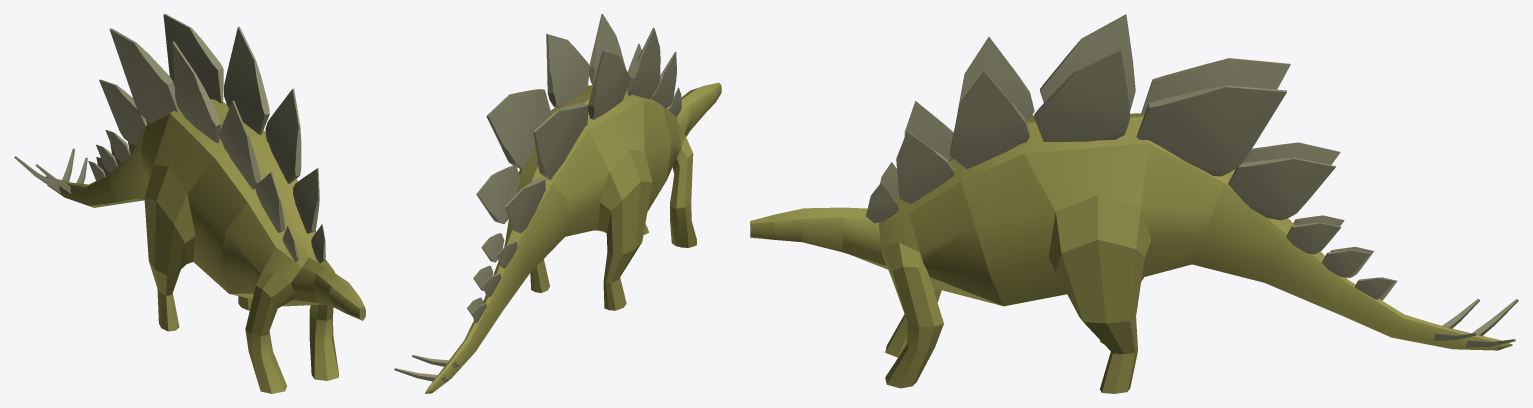
The model's file is Low_Poly_Stego.fbx.
3 views of the same model, side by side, from view 1: azimuth 30°, elevation 25°; view 2: azimuth 150°, elevation 25°; view 3: azimuth 270°, elevation 25° (orthographic). The views are drawn at different scales.
Visible parts, largest first — view 1: Body, Back_Spikes, Tail_Spikes; view 2: Body, Back_Spikes, Tail_Spikes; view 3: Body, Back_Spikes, Tail_Spikes.
Part boxes in pixels (bbox=[...]): Body: bbox=[45, 99, 365, 393]; Back_Spikes: bbox=[88, 14, 325, 263]; Tail_Spikes: bbox=[14, 148, 87, 193]; Body: bbox=[425, 82, 721, 393]; Back_Spikes: bbox=[467, 14, 681, 322]; Tail_Spikes: bbox=[394, 355, 458, 383]; Body: bbox=[750, 113, 1512, 393]; Back_Spikes: bbox=[866, 14, 1397, 300]; Tail_Spikes: bbox=[1433, 298, 1518, 347].
Size of the model in its own units: 1.94 by 4.26 by 8.88.
